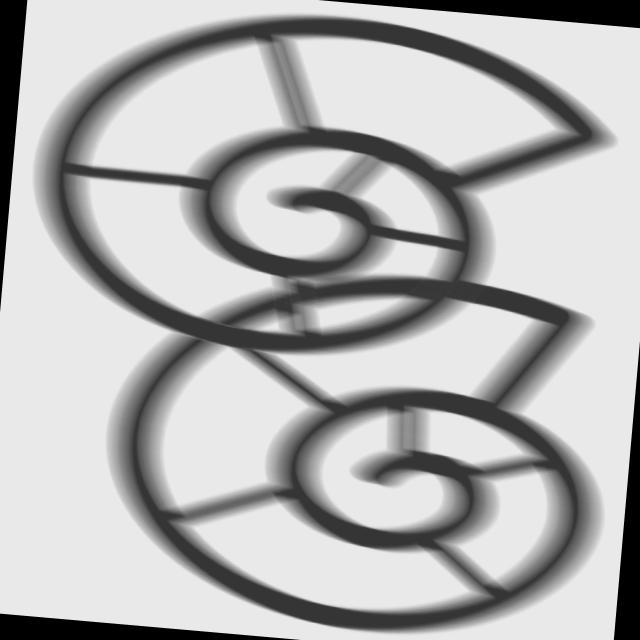fossil: (8, 1, 639, 389), (79, 253, 637, 640)
